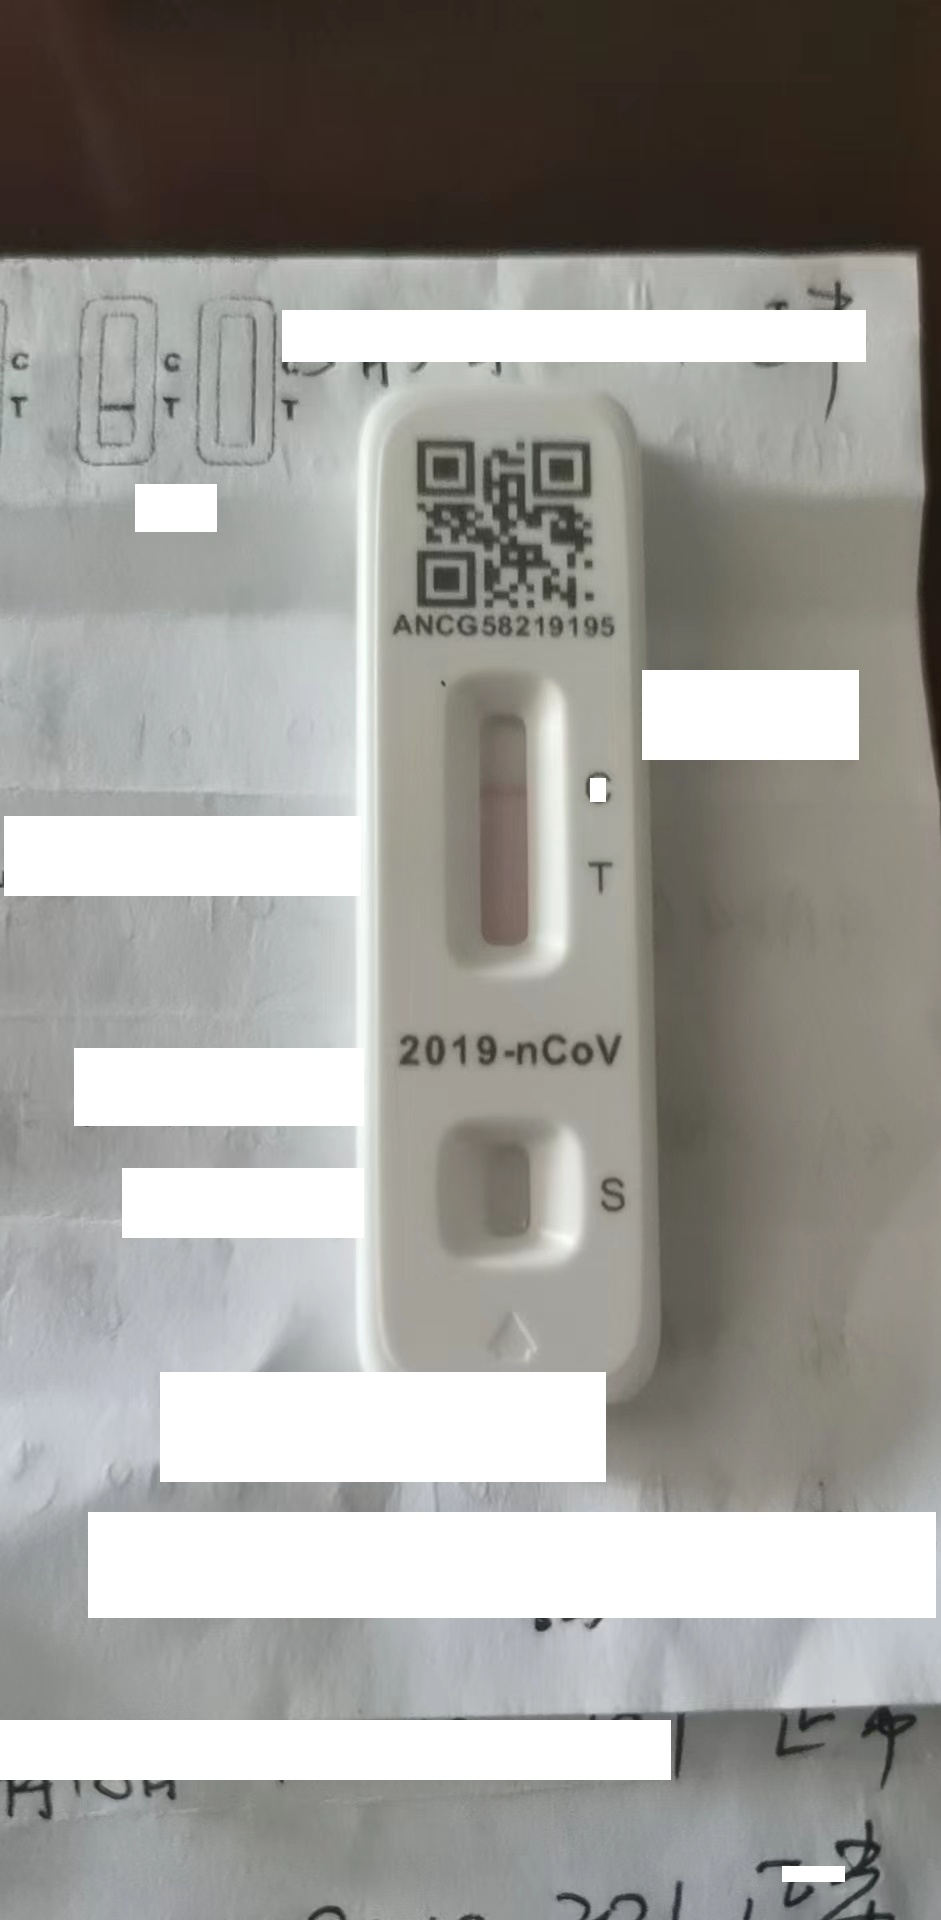negative: (444, 669, 564, 982)
